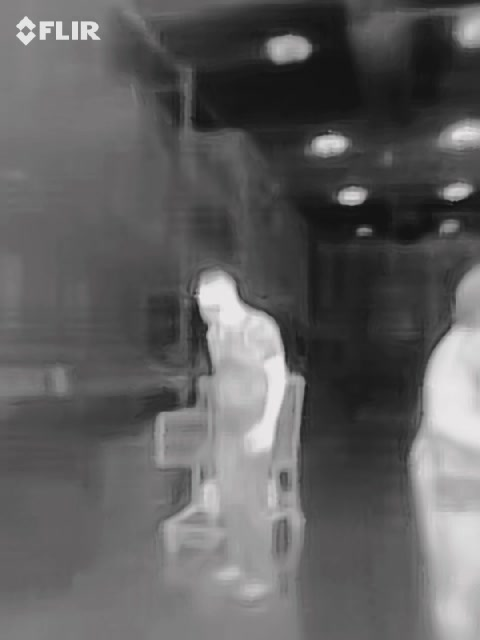head: (192, 269, 242, 327)
